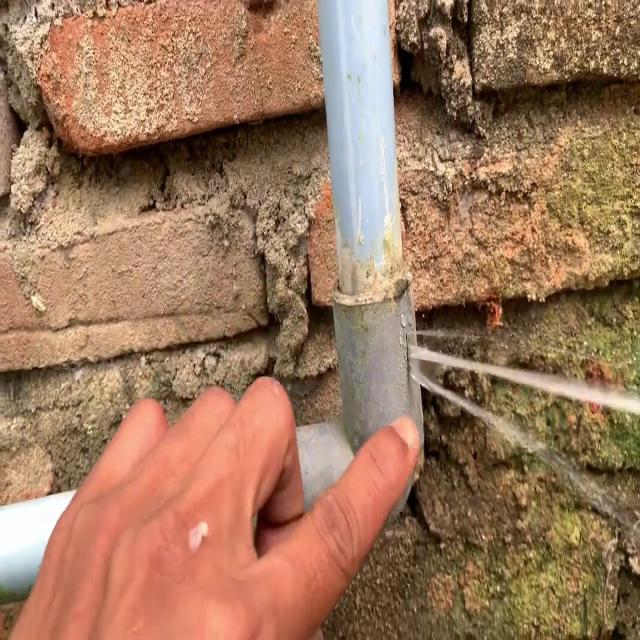leak: (406, 339, 640, 542)
